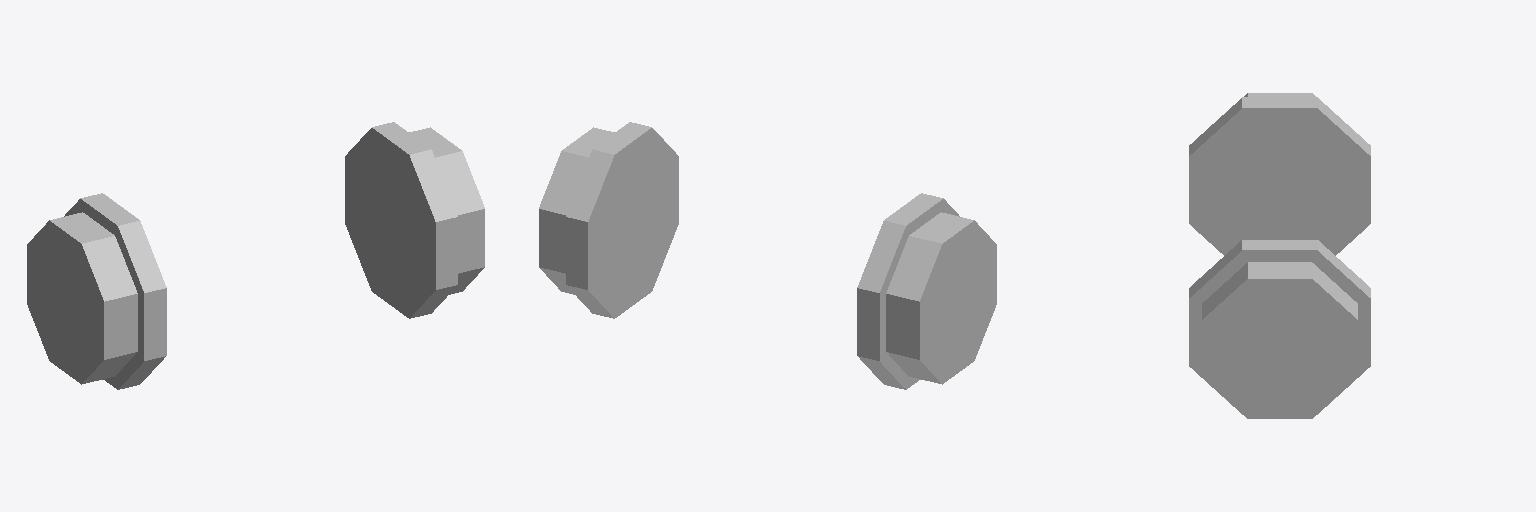
Rendered from wheel.obj.
The picture shows the model from 3 angles: view 1: azimuth 30°, elevation 25°; view 2: azimuth 150°, elevation 25°; view 3: azimuth 270°, elevation 25°; orthographic projection.
Parts seen in each view (by area): view 1: cylinder.003, cylinder.006, cylinder.005, cylinder.004; view 2: cylinder.003, cylinder.006, cylinder.005, cylinder.004; view 3: cylinder.005, cylinder.004, cylinder.003.
Boxes of the visible parts, x1,y1,x2,y2 form: cylinder.003: [345, 122, 457, 318]; cylinder.006: [27, 212, 137, 384]; cylinder.005: [64, 193, 166, 389]; cylinder.004: [409, 127, 484, 294]; cylinder.003: [566, 122, 678, 318]; cylinder.006: [886, 212, 996, 384]; cylinder.005: [857, 193, 959, 389]; cylinder.004: [539, 127, 614, 294]; cylinder.005: [1189, 97, 1370, 255]; cylinder.004: [1202, 262, 1357, 418]; cylinder.003: [1189, 240, 1370, 406].
Bounding box in the file's own units: 2.12 × 0.875 × 0.875.